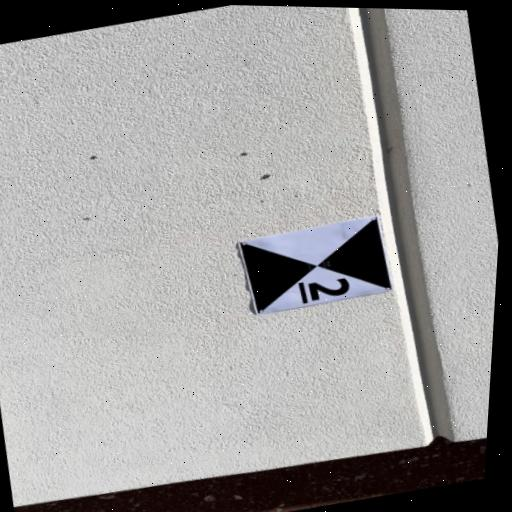target2: (237, 217, 391, 315)
